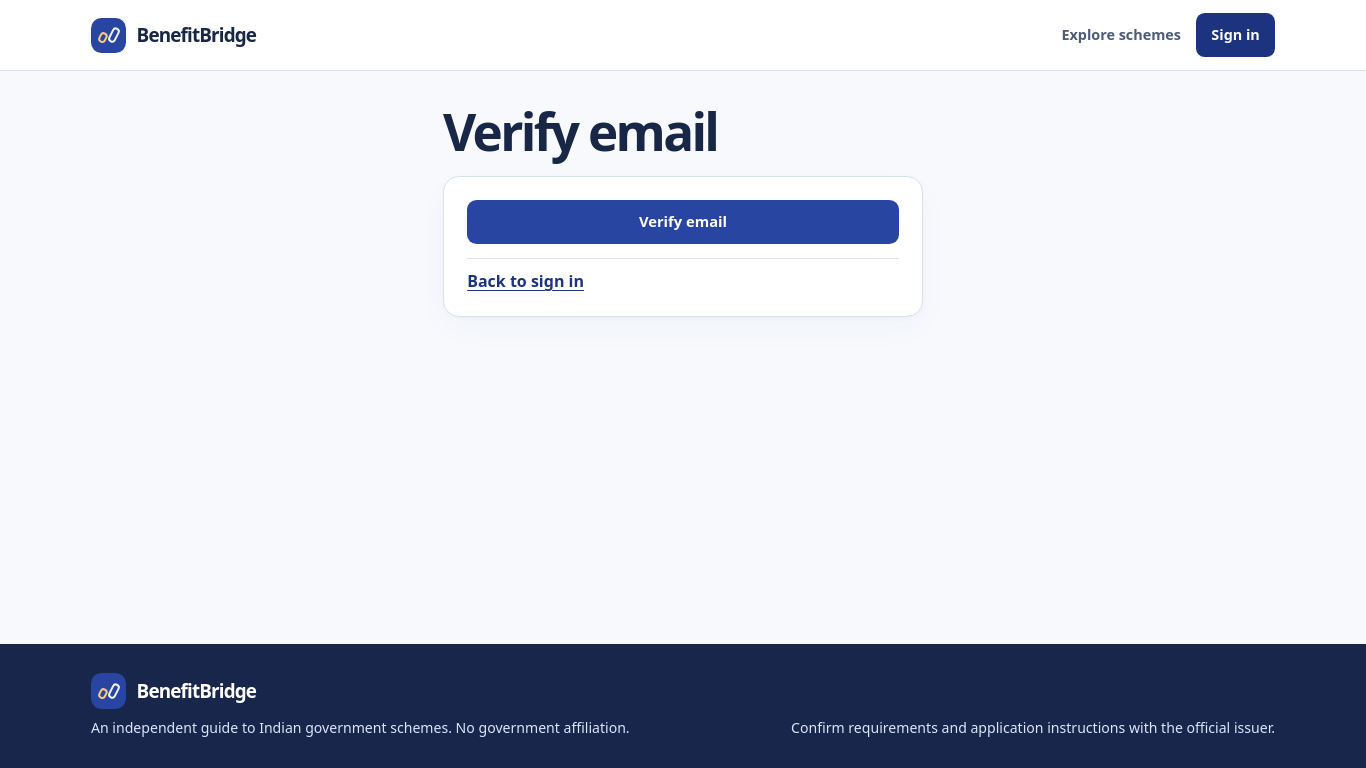
Test: consumes an email verification link with a POST body
Click the button "Verify email" at (683, 222), box [467,200,899,244]
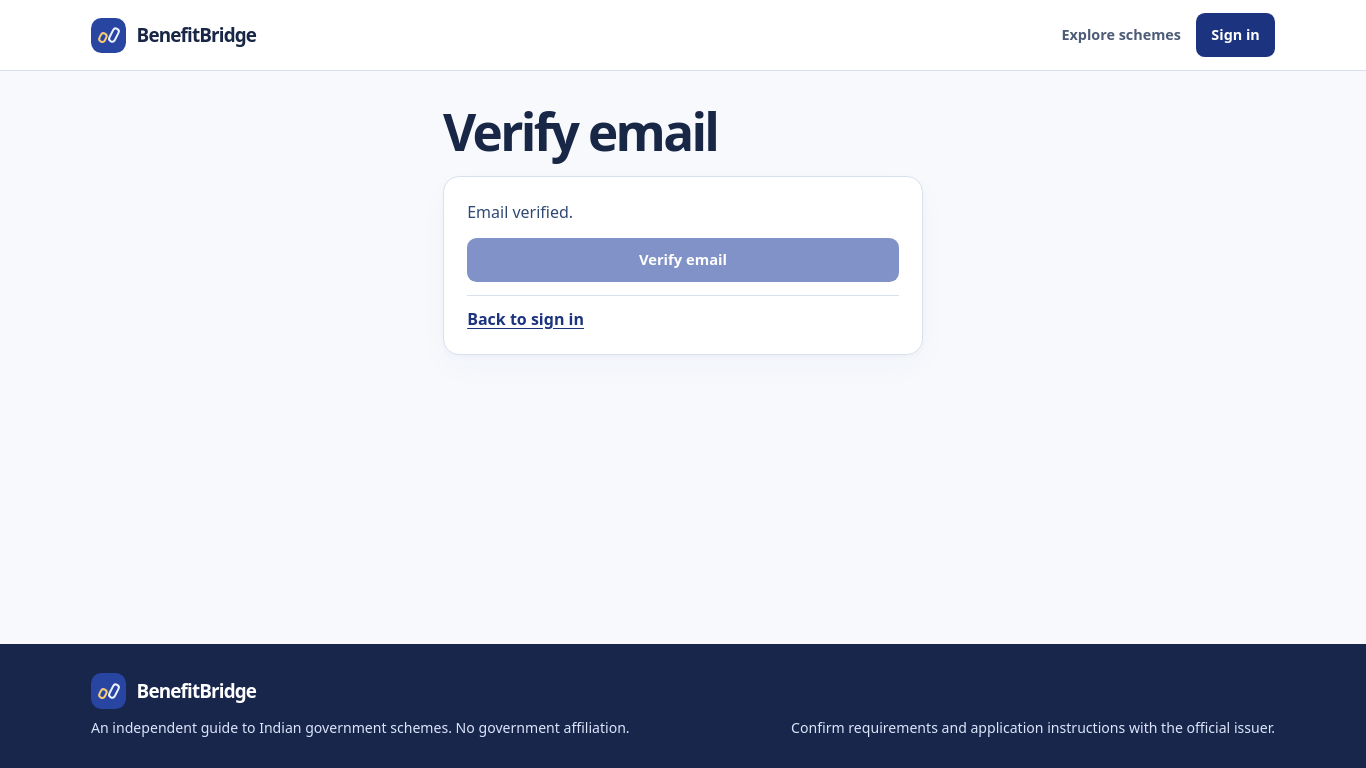
Now the text "Email verified." is shown, box [467,201,573,223]
